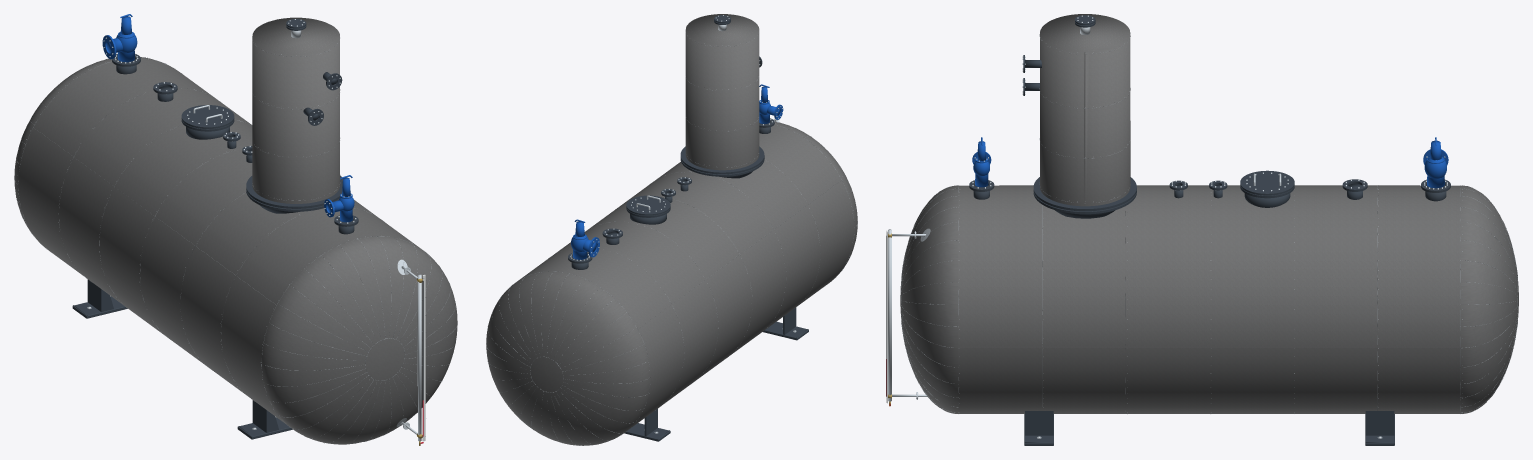
File: s3000-deaerator-BW_SZHCe.glb
3 renders of one model, left to right at view 1: azimuth 30°, elevation 25°; view 2: azimuth 150°, elevation 25°; view 3: azimuth 270°, elevation 25°, orthographic. The views are drawn at different scales.
Visible parts, largest first — view 1: deaerator geometry; view 2: deaerator geometry; view 3: deaerator geometry.
Part boxes in pixels (x1,y1,x2,y2): deaerator geometry: [14, 14, 457, 445]; deaerator geometry: [486, 14, 857, 445]; deaerator geometry: [886, 14, 1518, 445].
Size of the model in its own units: 2.33 by 4.37 by 6.43.
Materials: 10 (1 with a texture image).
